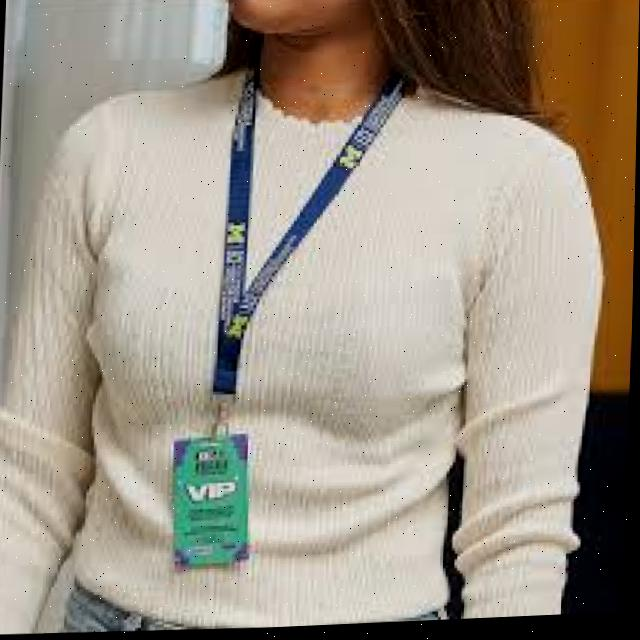id_card: (160, 70, 313, 585)
